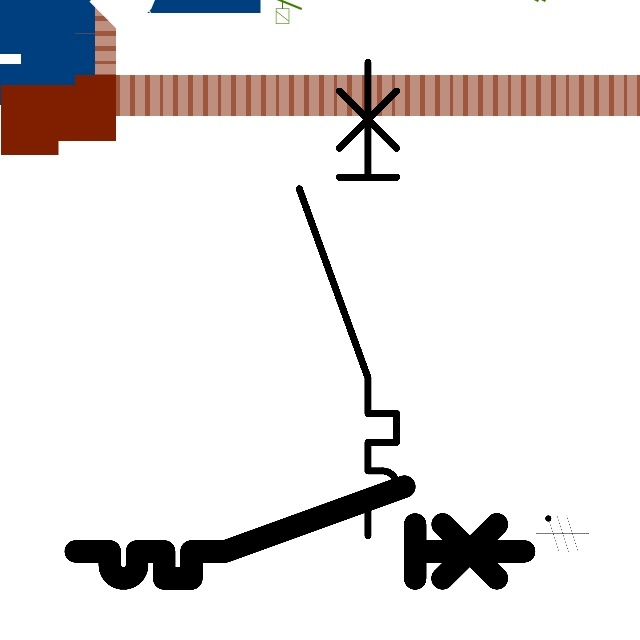interruptor_termomagnetico: (287, 50, 409, 548), (64, 475, 536, 590)
